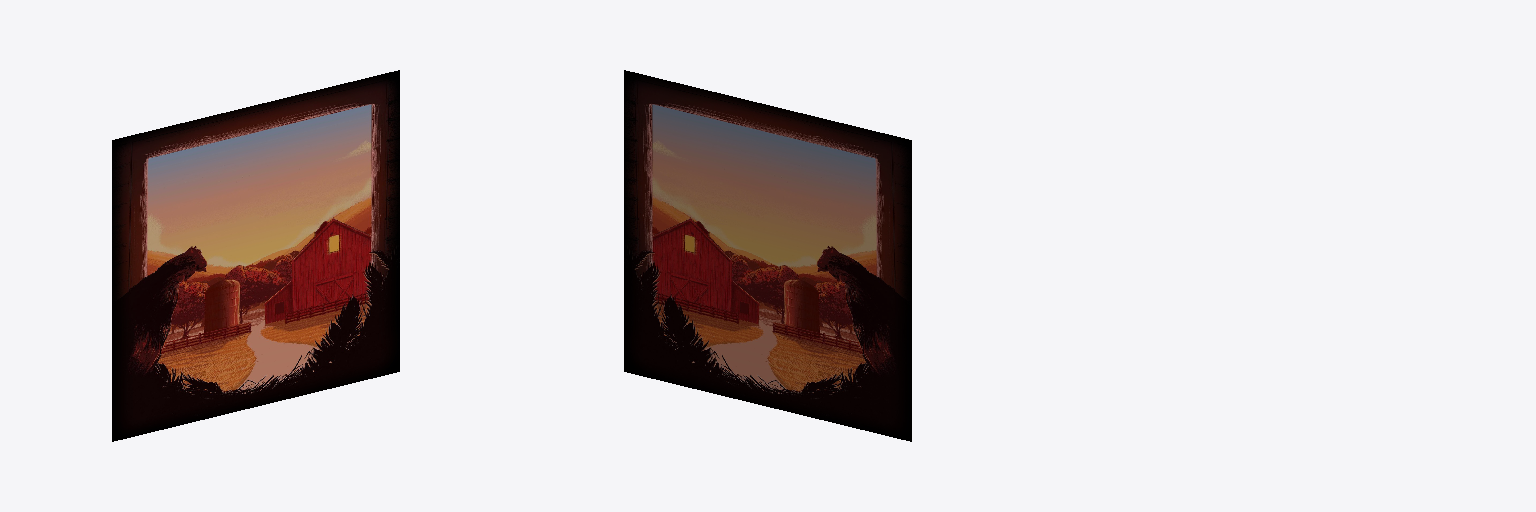
3 views of the same model, side by side, from view 1: azimuth 30°, elevation 25°; view 2: azimuth 150°, elevation 25°; view 3: azimuth 270°, elevation 25° (orthographic).
Visible parts, largest first — view 1: Plane; view 2: Plane; view 3: none.
Part boxes in pixels (left/top/right/bottom): Plane: left=112, top=70, right=399, bottom=441; Plane: left=624, top=70, right=911, bottom=441.
Size of the model in its own units: 2 by 2 by 0.
1 materials, 1 textured.